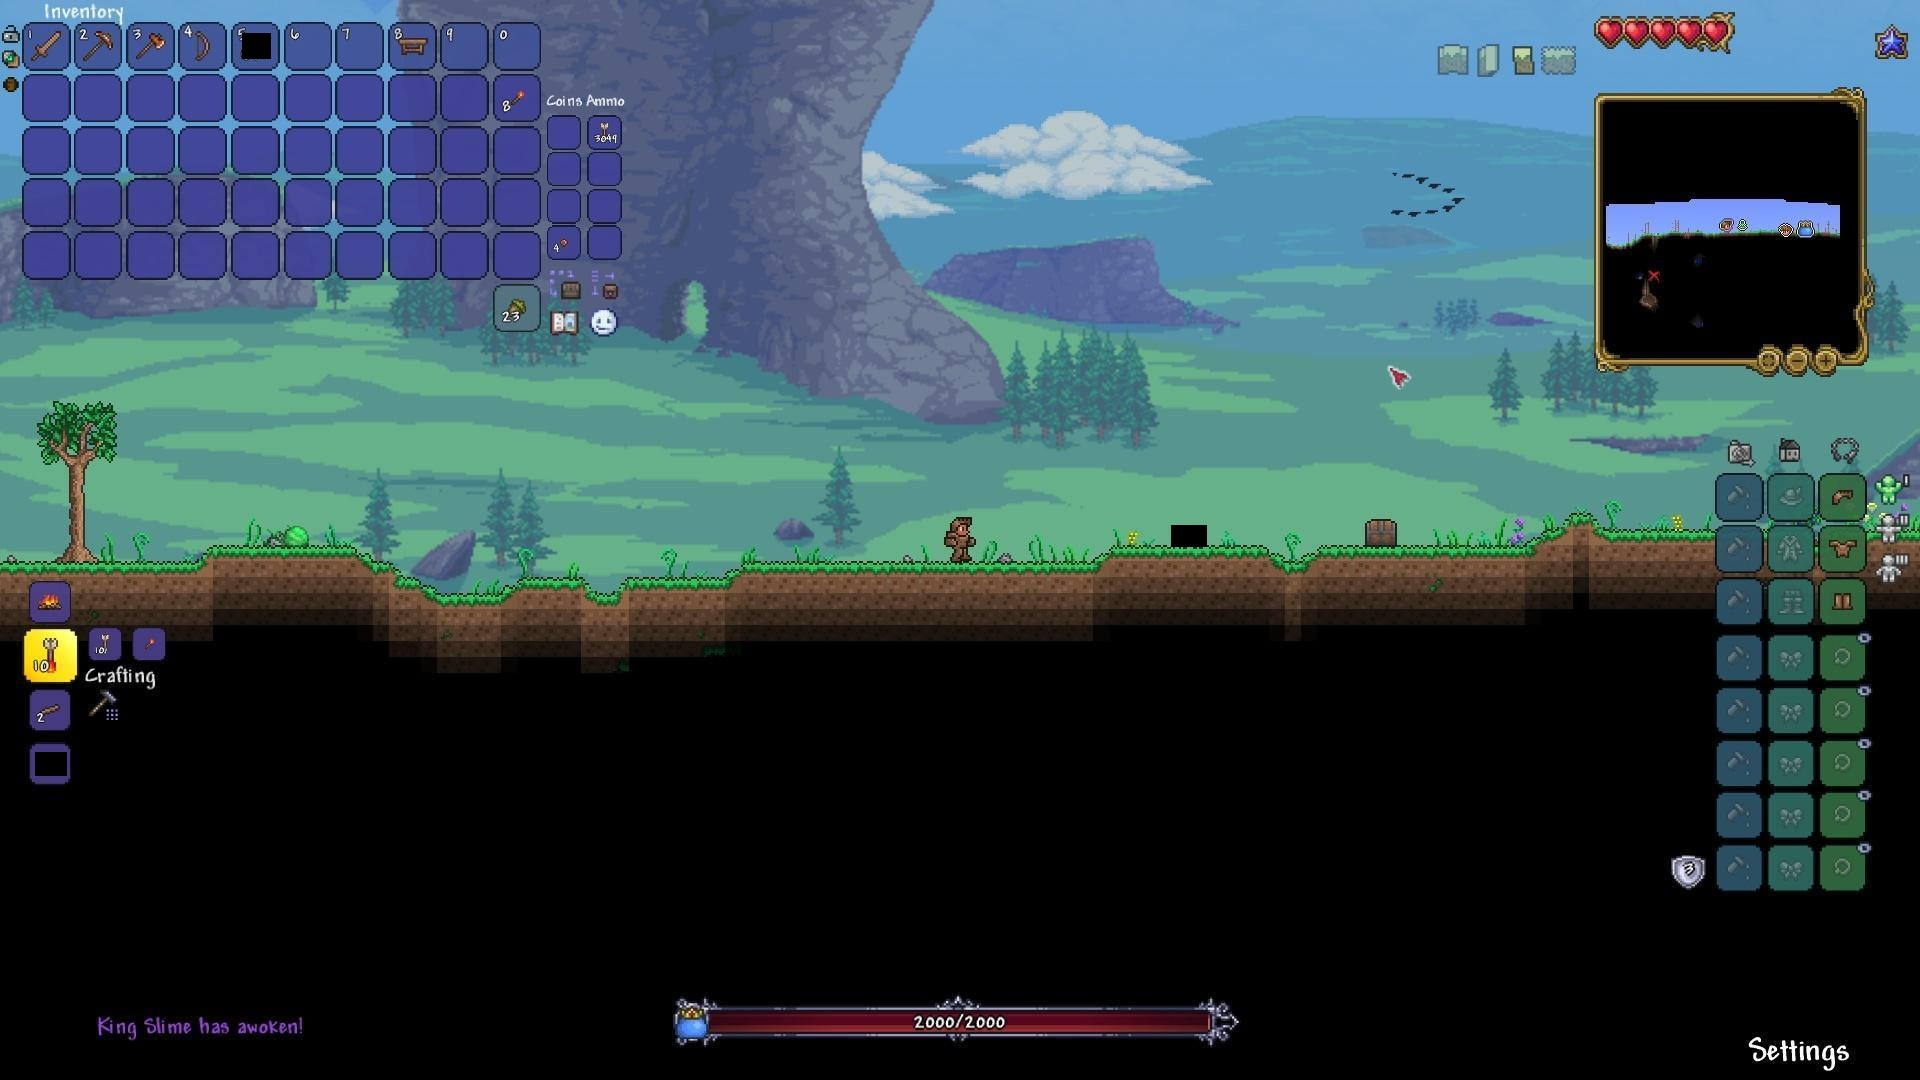breastplate: (1830, 538, 1859, 559)
helmet: (1829, 483, 1859, 510)
legs: (1832, 587, 1855, 616)
workbench: (393, 36, 430, 61)
